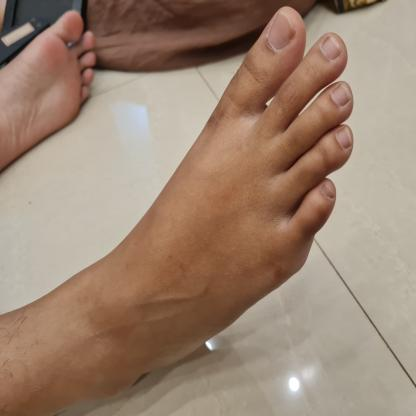leg: (0, 0, 359, 416), (0, 4, 102, 176)
